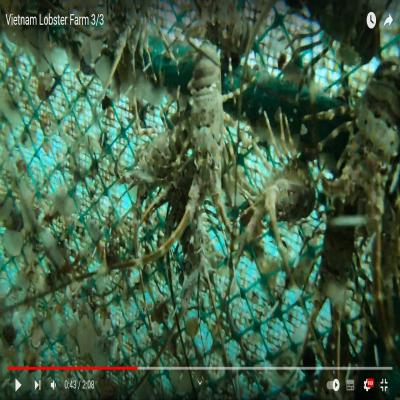lobster: (187, 56, 226, 209), (256, 146, 316, 226)
